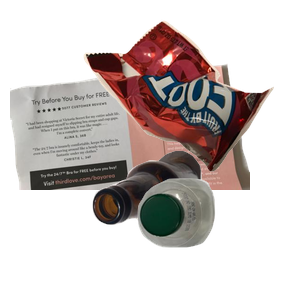glass: (90, 148, 300, 300)
paper: (10, 61, 250, 241)
plastic: (135, 176, 300, 300)
trash: (81, 18, 300, 182)
